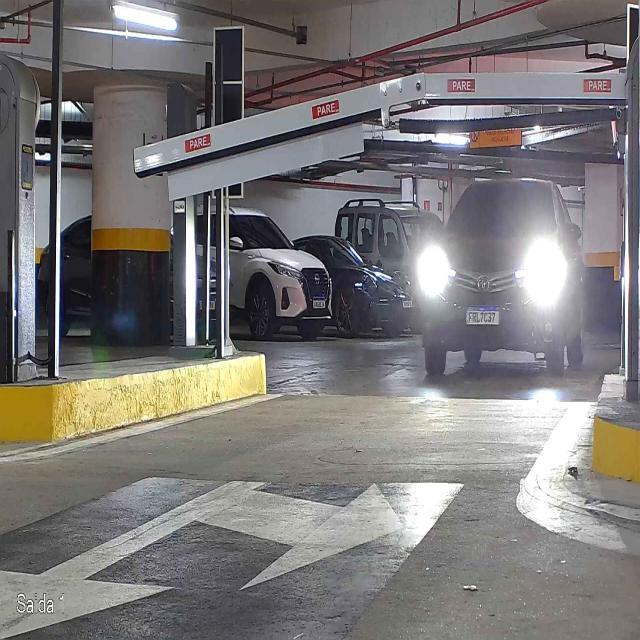mercosul_plate: (462, 303, 500, 327)
